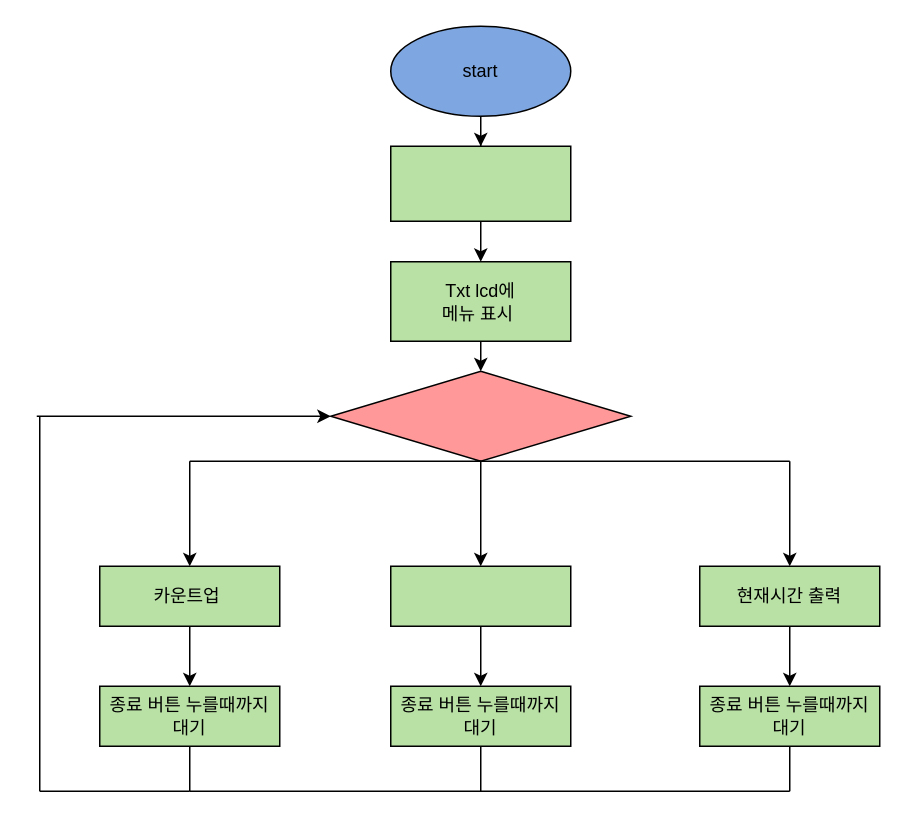
Image size: 906x819. Some labels were removed from this diagram. The shapes that lost their labels are listed below. From the top down, each one's centre as x and y in pixels, then its label:
At point 480,183: "실행".
At point 480,415: "GPIO Button으로 메뉴 선택".
At point 480,595: "카운트다운".
